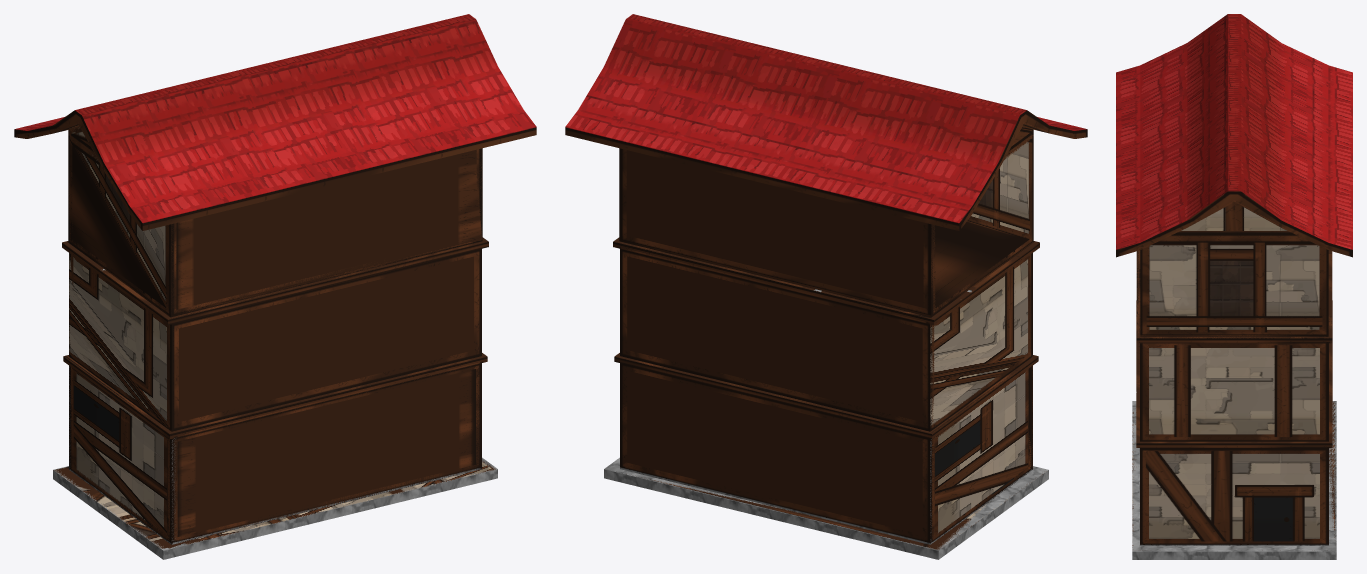
The model's file is House Base3_A.fbx.
The picture shows the model from 3 angles, left to right: view 1: azimuth 30°, elevation 25°; view 2: azimuth 150°, elevation 25°; view 3: azimuth 270°, elevation 25°; orthographic projection. The views are drawn at different scales.
Visible parts, largest first — view 1: House Base 3a_col, House Base 3a; view 2: House Base 3a_col, House Base 3a; view 3: House Base 3a, House Base 3a_col.
Part boxes in pixels (x1,y1,x2,y2): House Base 3a_col: [53, 127, 495, 550]; House Base 3a: [14, 14, 536, 559]; House Base 3a_col: [606, 131, 1047, 550]; House Base 3a: [565, 14, 1087, 559]; House Base 3a: [1116, 14, 1352, 559]; House Base 3a_col: [1132, 202, 1336, 551].
Bounding box in the file's own units: 1520 × 1525 × 857.
